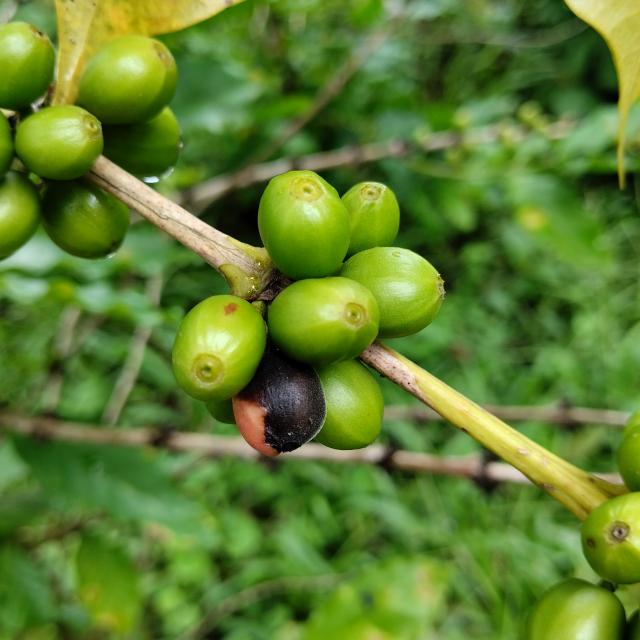green: (258, 170, 351, 280), (172, 295, 266, 403), (267, 277, 380, 366), (339, 247, 445, 338), (77, 34, 177, 124), (41, 178, 129, 259), (14, 105, 103, 180), (314, 359, 384, 451), (526, 580, 627, 640), (102, 106, 182, 177), (582, 493, 640, 585), (0, 21, 54, 110), (342, 181, 400, 259), (0, 170, 40, 259)
red: (232, 345, 326, 457)
